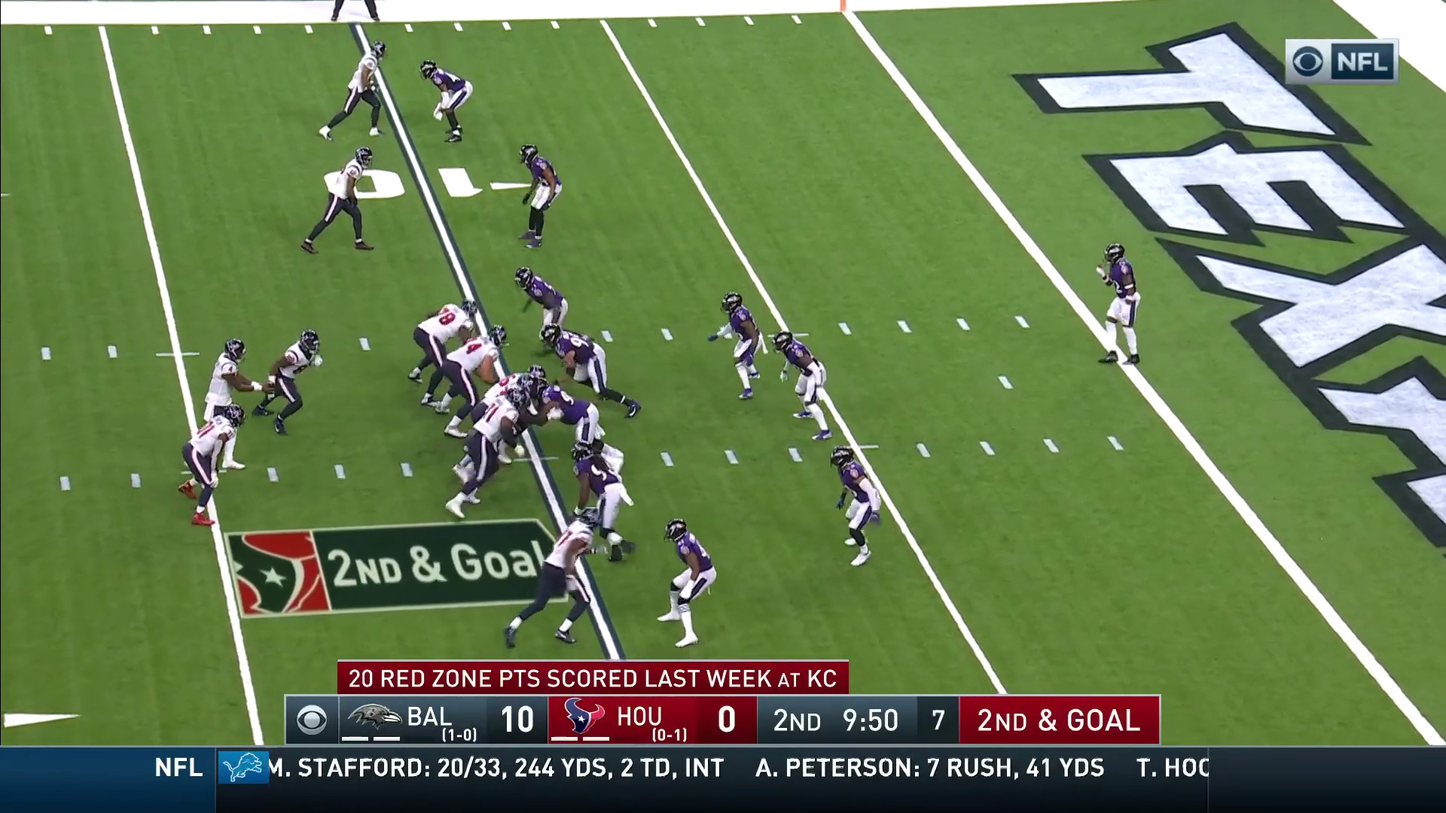Player: (452, 382, 523, 512), (182, 404, 242, 524), (198, 338, 250, 466), (773, 330, 830, 440), (469, 374, 532, 468), (573, 425, 629, 525), (442, 332, 499, 419), (1099, 243, 1140, 363), (720, 292, 762, 398)
